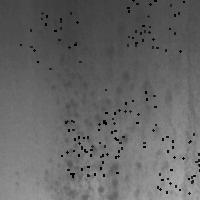pitted_surface: (48, 55, 170, 199), (20, 12, 79, 68), (61, 120, 121, 175), (103, 89, 155, 146), (127, 0, 183, 50), (157, 133, 200, 192)
